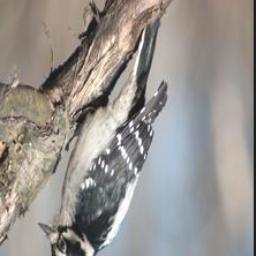Woodpecker: (35, 12, 170, 256)
